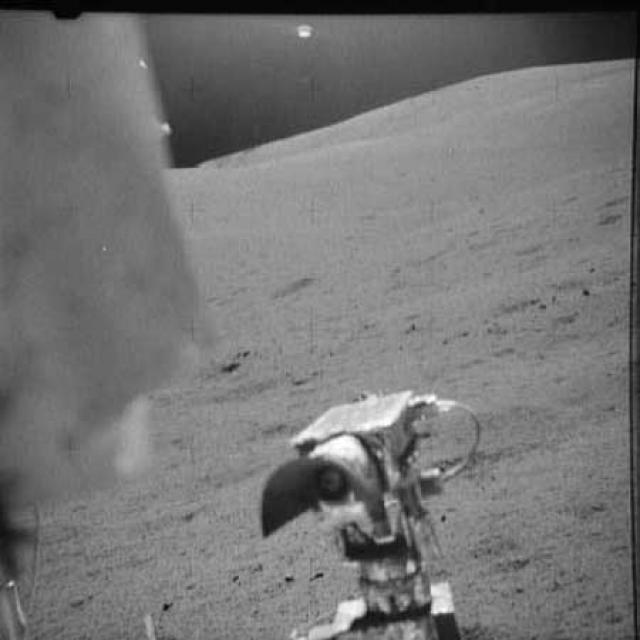artifact: (0, 4, 201, 639), (259, 381, 495, 639)
crater: (260, 268, 324, 299)
